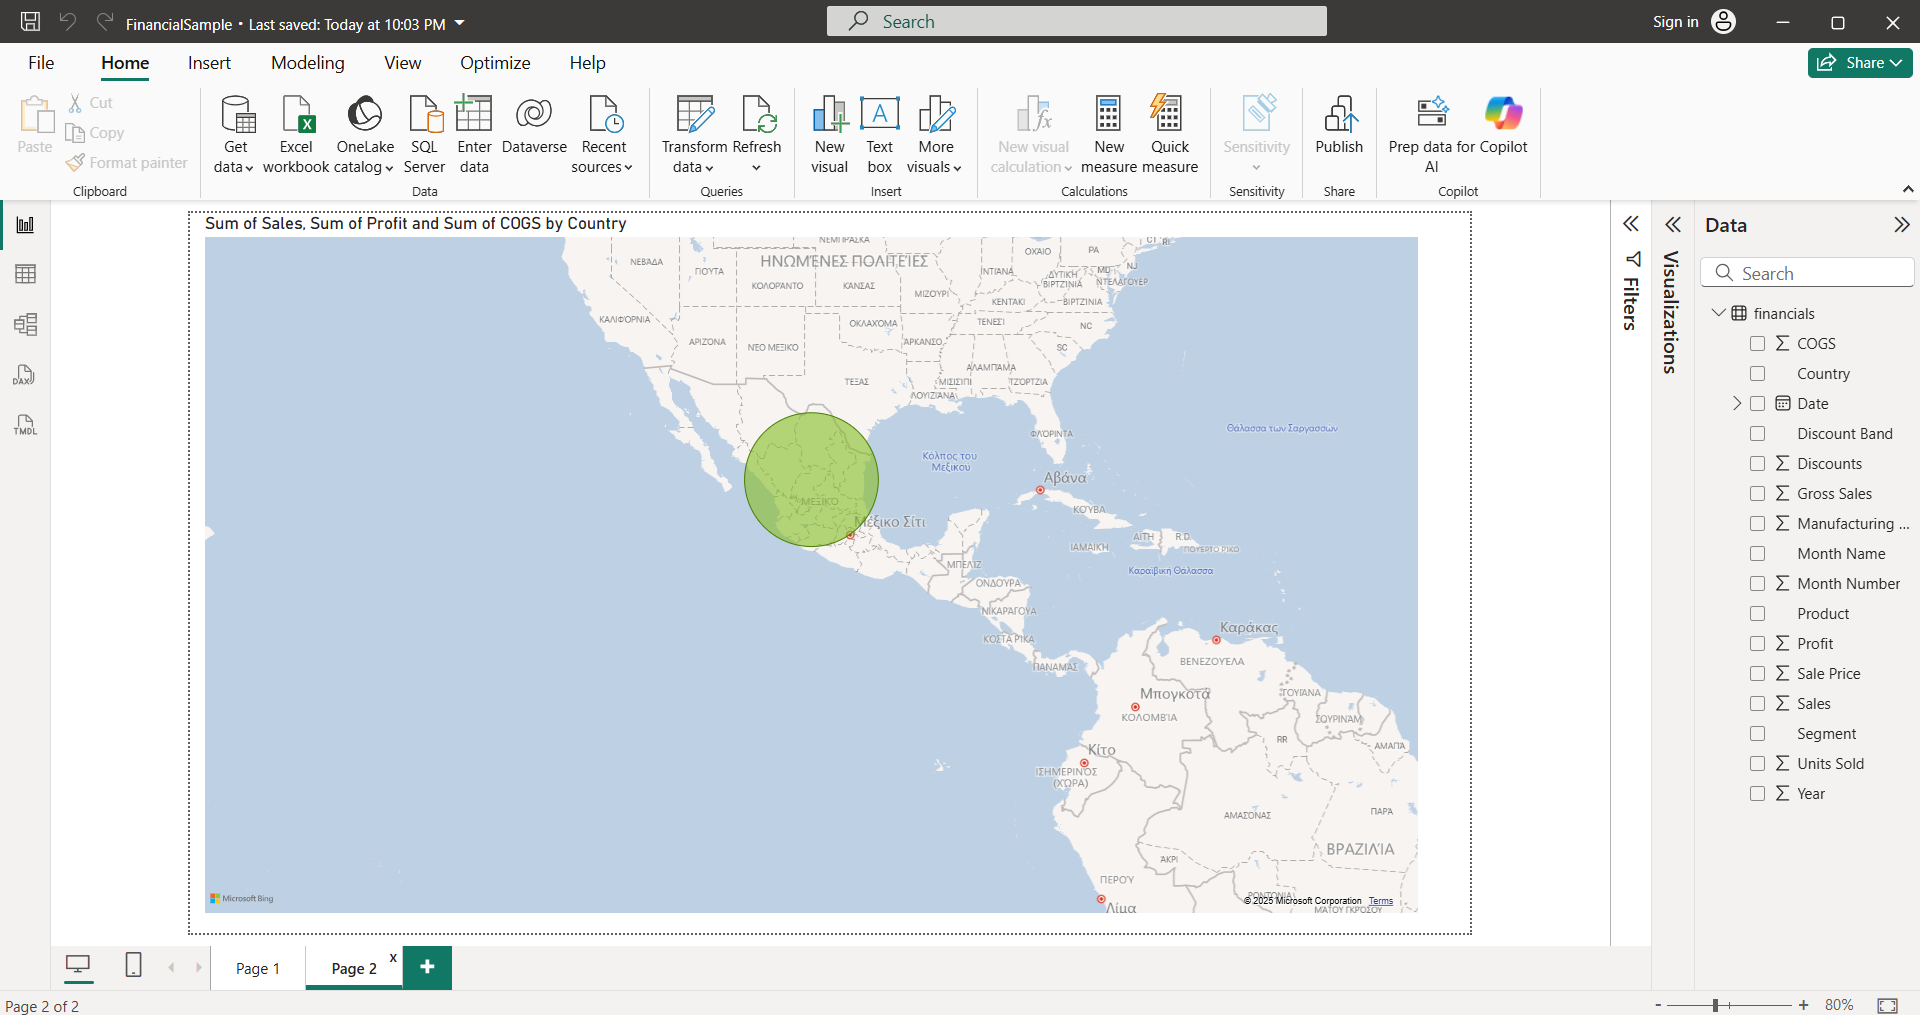

The page's visual inventory and layout, read from the dashboard file:
{"tool":"powerbi","page":{"name":"Page 2","canvas":[1280,720],"ordinal":1},"visuals":[{"type":"map","fields":{"Category":["financials.Country"],"Size":["Sum(financials.Sales)"]},"box":[10,0,1223.3,705],"z":0}]}

Visuals, with their boxes on the page's 1280x720 design canvas (x1, y1, x2, y2). These are canvas units, not pixel positions in the 1920x1015 screenshot, which may show the page scaled, cropped or inside an application window:
map - financials.Country x Sum(financials.Sales): 10/0/1233/705
